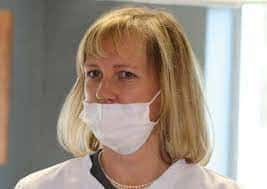with_incorrect_mask: (80, 32, 161, 154)
